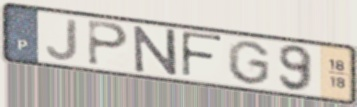9: (277, 44, 315, 94)
F: (179, 29, 224, 81)
G: (225, 39, 272, 87)
J: (44, 18, 80, 63)
N: (131, 25, 180, 78)
P: (86, 18, 131, 69)
